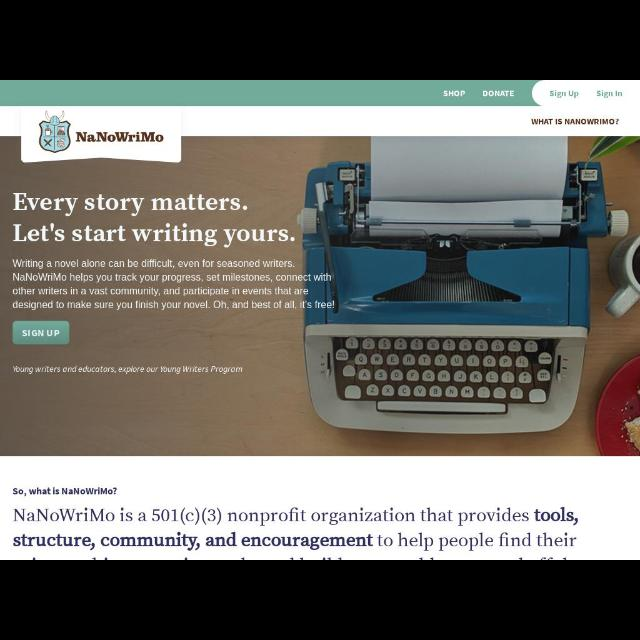backgroundimage: (1, 136, 639, 456)
image: (39, 111, 71, 153)
text: (15, 506, 578, 548), (11, 258, 335, 310), (12, 192, 298, 248), (11, 366, 242, 376), (13, 487, 117, 498), (78, 131, 164, 143), (531, 118, 619, 125), (550, 89, 580, 99), (22, 330, 59, 338), (483, 90, 515, 98), (594, 90, 626, 98), (444, 90, 464, 96)
textbutton: (13, 322, 68, 344)
